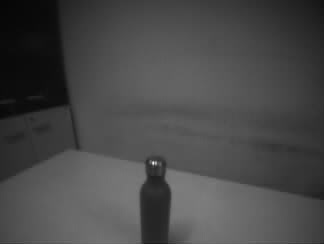Bottle: (138, 155, 172, 244)
